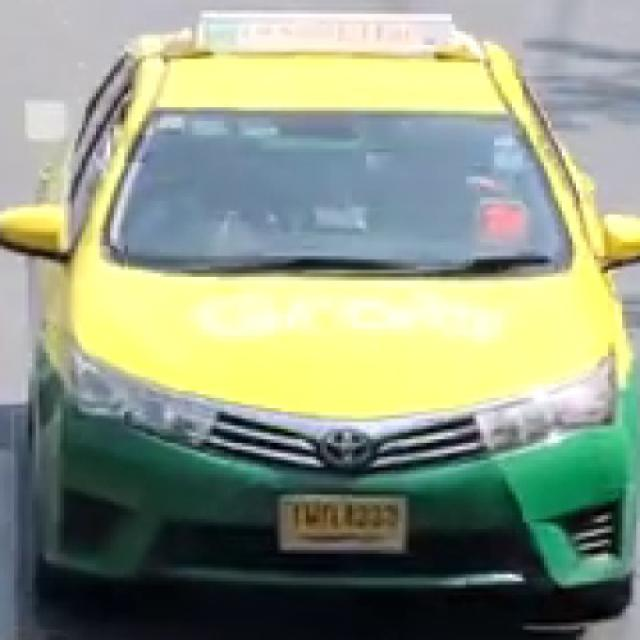plate: (281, 497, 407, 548)
